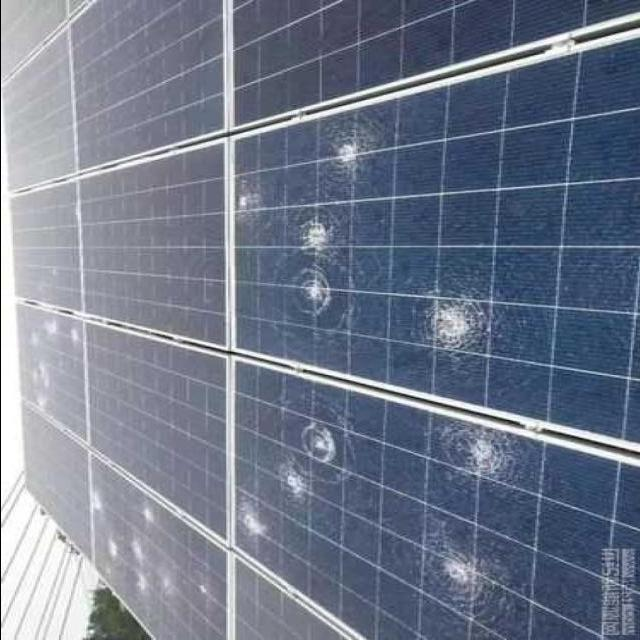cracked: (226, 51, 640, 377), (230, 364, 640, 640), (88, 460, 232, 640), (13, 300, 98, 446)
